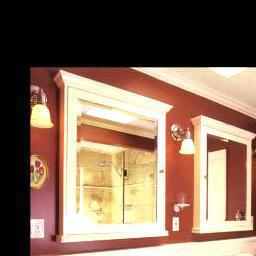Lavamanos: (206, 249, 256, 256)
